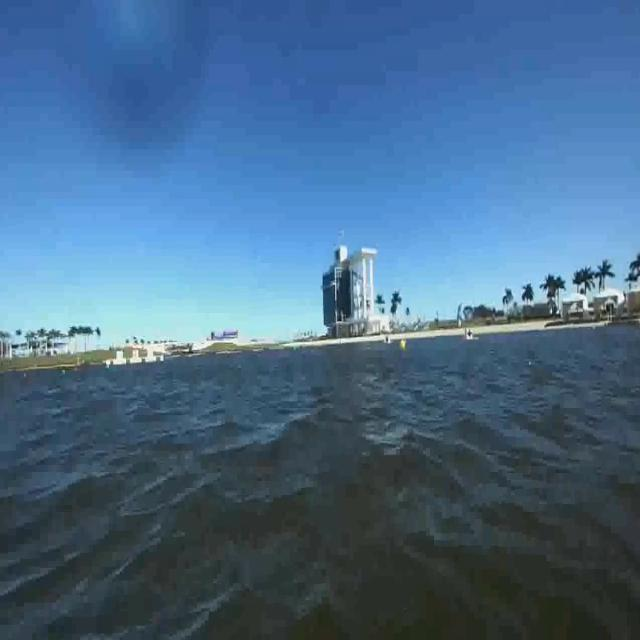yellow-buoy: (398, 338, 407, 352)
